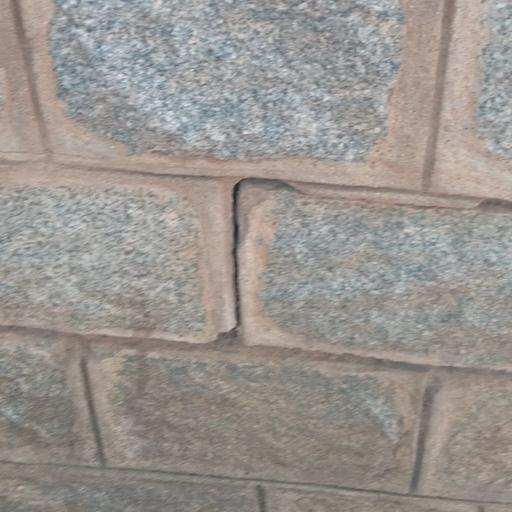major_crack: (176, 119, 352, 357)
